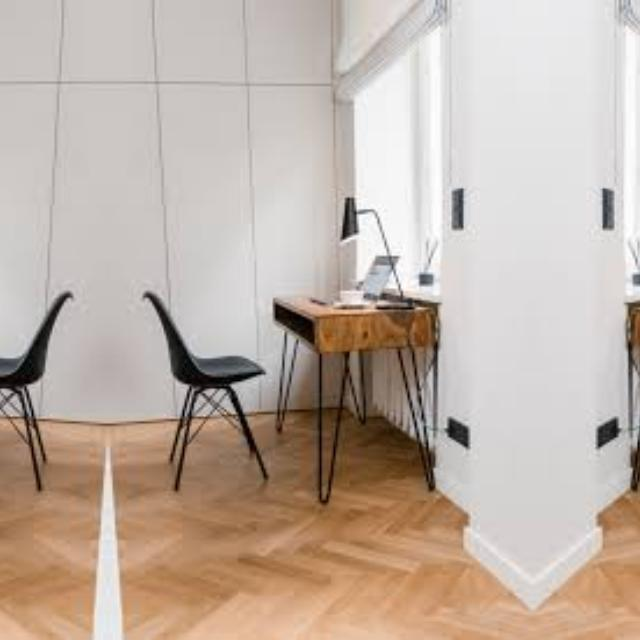obstacle: (131, 255, 293, 507), (0, 255, 83, 507)
